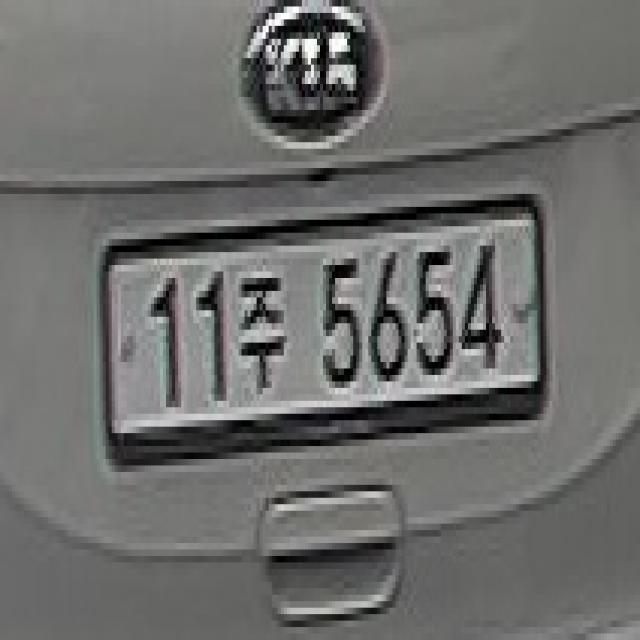1: (187, 259, 236, 433), (148, 265, 190, 433)
4: (459, 233, 510, 388)
5: (410, 239, 459, 401), (317, 252, 365, 407)
6: (362, 246, 411, 407)
ju: (235, 252, 293, 420)
license_plate: (97, 187, 556, 472)
